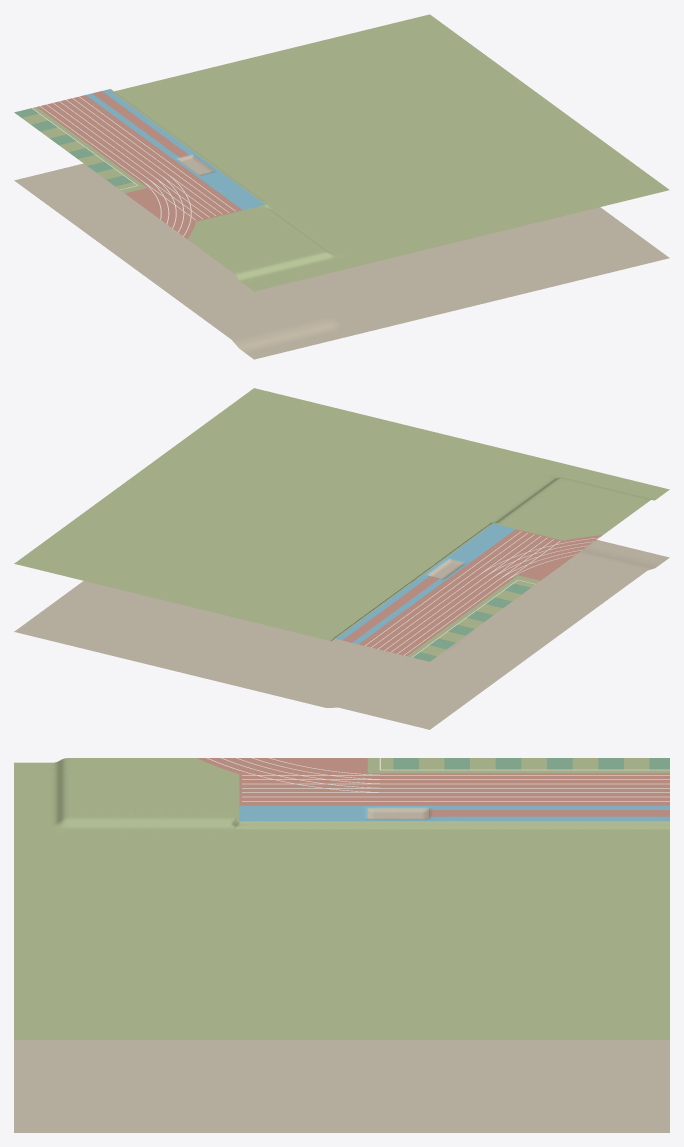
3 renders of one model, top to bottom at view 1: azimuth 30°, elevation 25°; view 2: azimuth 150°, elevation 25°; view 3: azimuth 270°, elevation 25°, orthographic. The views are drawn at different scales.
Visible parts, largest first — view 1: s_2_-4__grass, s_2_-4__soil, s_2_-4__red_court, s_2_-4__blue_court, s_2_-4__white_marking, s_2_-4__green_court; view 2: s_2_-4__grass, s_2_-4__soil, s_2_-4__red_court, s_2_-4__blue_court, s_2_-4__white_marking, s_2_-4__green_court; view 3: s_2_-4__grass, s_2_-4__soil, s_2_-4__red_court, s_2_-4__white_marking, s_2_-4__blue_court, s_2_-4__green_court.
Part boxes in pixels (x1=…): s_2_-4__grass: x1=22, y1=14, x2=669, y2=291; s_2_-4__soil: x1=14, y1=155, x2=669, y2=359; s_2_-4__red_court: x1=37, y1=91, x2=242, y2=238; s_2_-4__blue_court: x1=86, y1=89, x2=265, y2=210; s_2_-4__white_marking: x1=31, y1=96, x2=235, y2=236; s_2_-4__green_court: x1=14, y1=108, x2=132, y2=186; s_2_-4__grass: x1=14, y1=388, x2=669, y2=657; s_2_-4__soil: x1=14, y1=540, x2=669, y2=729; s_2_-4__red_court: x1=342, y1=529, x2=602, y2=656; s_2_-4__blue_court: x1=336, y1=523, x2=515, y2=644; s_2_-4__white_marking: x1=365, y1=531, x2=598, y2=657; s_2_-4__green_court: x1=413, y1=583, x2=530, y2=661; s_2_-4__grass: x1=14, y1=758, x2=669, y2=1039; s_2_-4__soil: x1=14, y1=808, x2=669, y2=1132; s_2_-4__red_court: x1=197, y1=758, x2=669, y2=816; s_2_-4__white_marking: x1=206, y1=758, x2=669, y2=801; s_2_-4__blue_court: x1=239, y1=805, x2=669, y2=820; s_2_-4__green_court: x1=393, y1=758, x2=669, y2=769.
Bounding box in the file's own units: 128 × 21.01 × 128.
